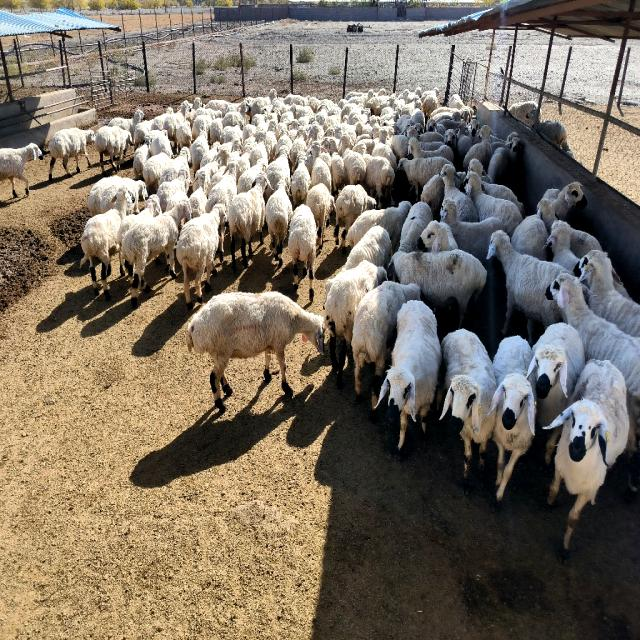sheep: (549, 275, 640, 492), (186, 292, 324, 413), (545, 360, 629, 549), (378, 300, 441, 449), (488, 232, 569, 344), (440, 328, 496, 489), (351, 282, 420, 408), (324, 260, 386, 388), (490, 335, 535, 501), (391, 250, 486, 328), (121, 202, 191, 307), (81, 183, 135, 298), (529, 323, 585, 427), (574, 250, 640, 336), (176, 205, 228, 308), (441, 200, 504, 263), (229, 172, 269, 268), (465, 172, 522, 236), (469, 158, 525, 218), (346, 202, 411, 252), (334, 185, 376, 254), (288, 205, 316, 301), (88, 175, 148, 216), (49, 128, 95, 179), (118, 195, 161, 249), (0, 143, 42, 198), (398, 157, 450, 201), (440, 165, 479, 222), (265, 187, 292, 267), (306, 183, 334, 248), (95, 127, 134, 172), (511, 215, 549, 261), (542, 182, 588, 220), (546, 220, 579, 271), (206, 162, 239, 213), (399, 202, 432, 252), (364, 155, 395, 206), (156, 165, 190, 211), (162, 100, 191, 148), (418, 220, 458, 253), (409, 137, 454, 163), (420, 175, 445, 219), (291, 152, 311, 206), (144, 153, 170, 194), (160, 147, 190, 182), (238, 158, 268, 192), (311, 142, 331, 192), (266, 152, 291, 192), (328, 137, 346, 192), (570, 228, 602, 258), (211, 147, 234, 188), (108, 108, 144, 134), (189, 172, 209, 218), (342, 150, 366, 185), (371, 142, 398, 172), (134, 135, 151, 178), (538, 198, 558, 234), (290, 127, 306, 171), (275, 123, 292, 156), (545, 428, 561, 463), (149, 135, 172, 158), (390, 135, 409, 160), (176, 122, 192, 150), (219, 227, 224, 261), (119, 250, 124, 274), (125, 262, 131, 276)
